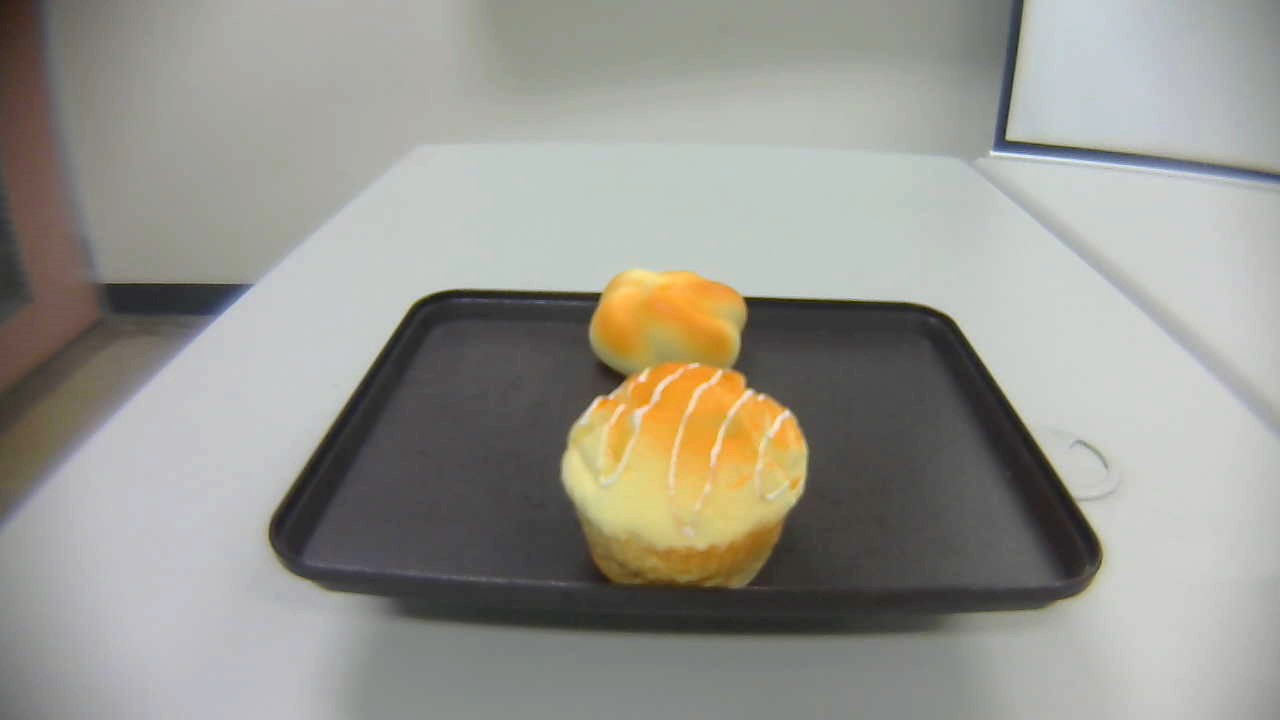cupcake: (562, 362, 808, 592)
twist bread: (588, 267, 748, 381)
